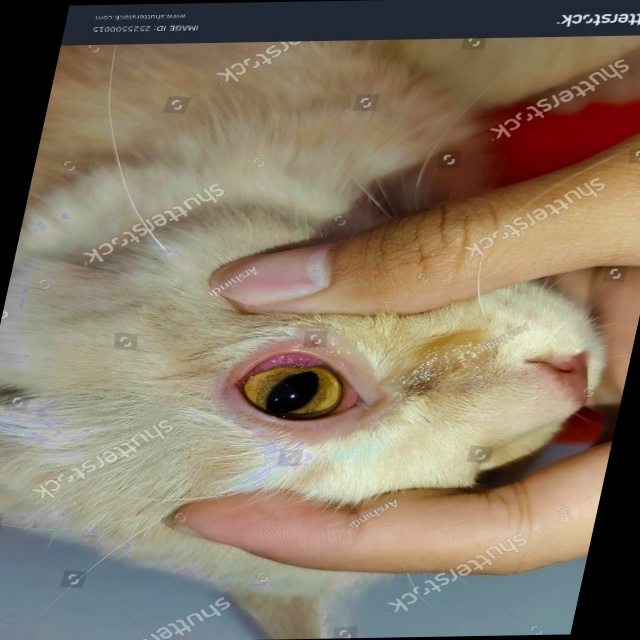eye_infection: (224, 348, 381, 431)
